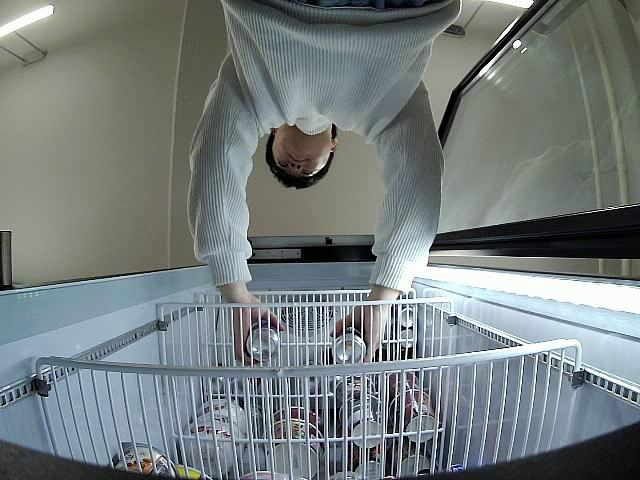00_hand: (328, 295, 387, 361), (235, 294, 285, 366)
14_welchsGrape: (247, 321, 283, 365), (331, 329, 367, 364)
